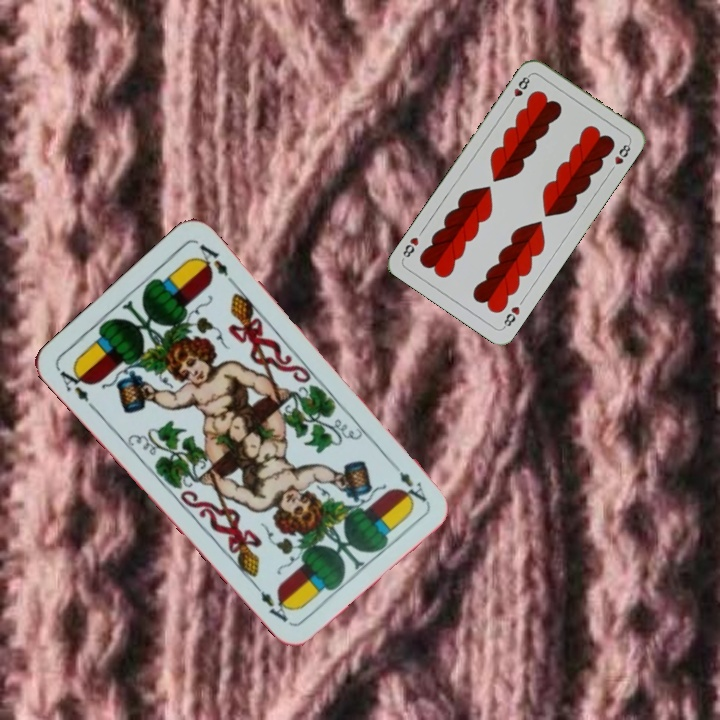EA: (54, 363, 99, 414), (395, 467, 430, 505)
H8: (505, 71, 533, 107), (499, 302, 523, 331)
